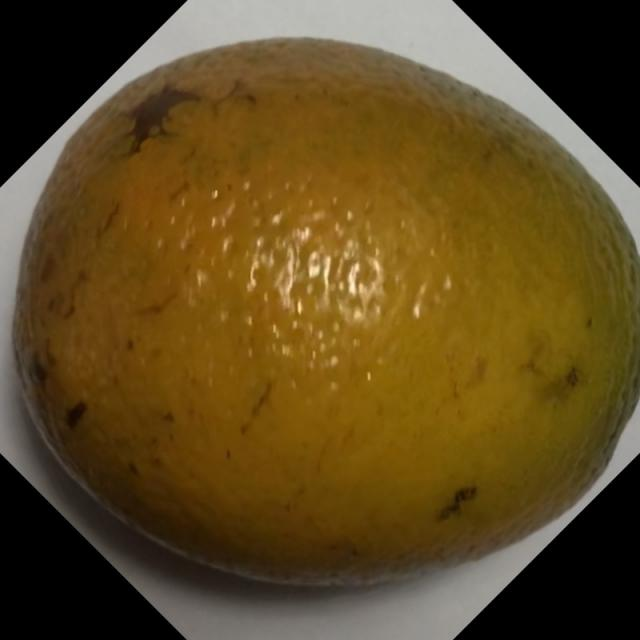canker: (12, 24, 640, 628)
